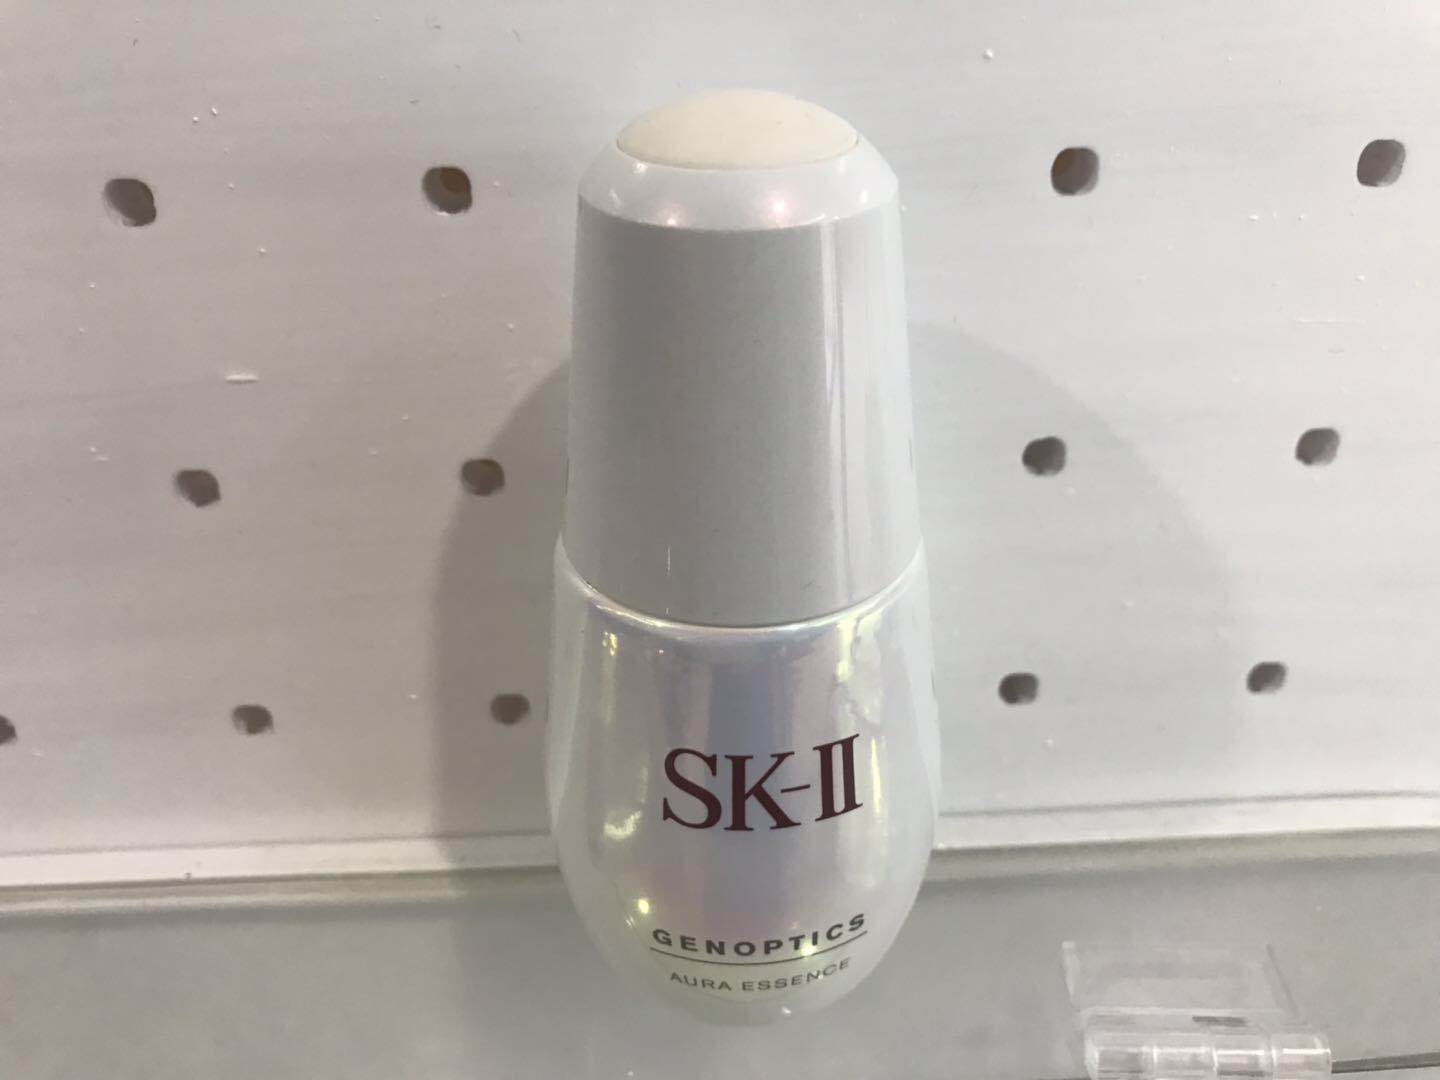sk2: (506, 69, 969, 1049)
